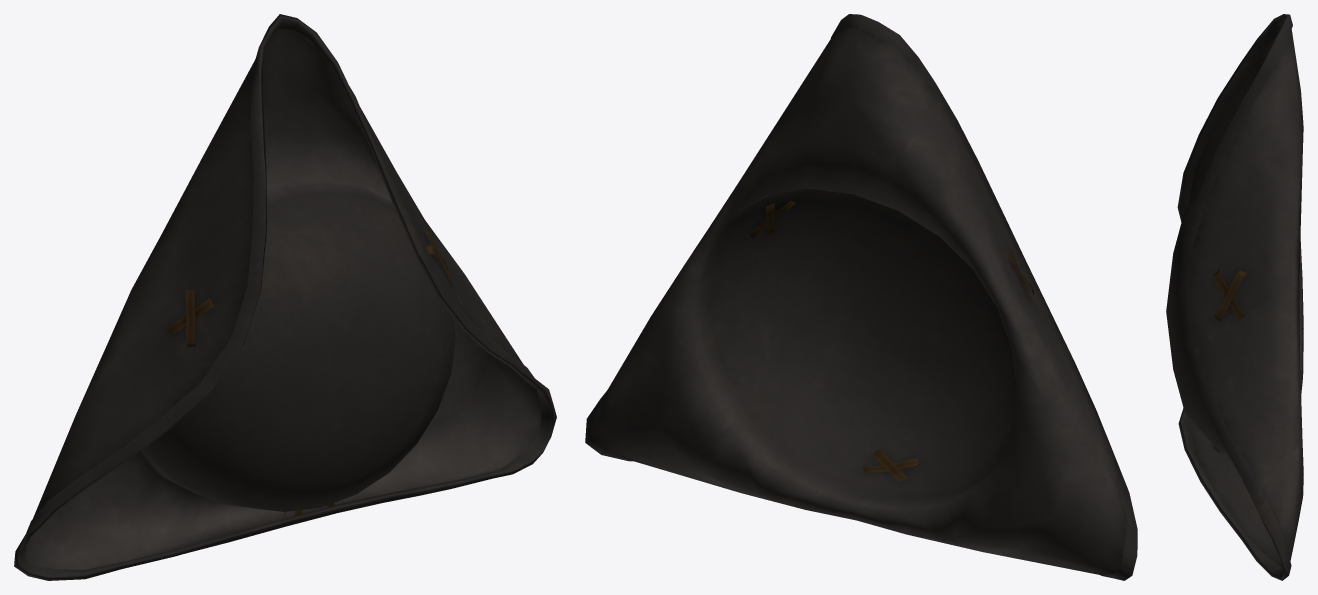
File: pirate_hat.glb
3 renders of one model, left to right at view 1: azimuth 30°, elevation 25°; view 2: azimuth 150°, elevation 25°; view 3: azimuth 270°, elevation 25°, orthographic. The views are drawn at different scales.
Parts seen in each view (by area): view 1: Edge_low_TricornhatMat_0; view 2: Edge_low_TricornhatMat_0; view 3: Edge_low_TricornhatMat_0.
Boxes of the visible parts, box(x1,y1,x2,y2) form: Edge_low_TricornhatMat_0: box(14, 14, 556, 580); Edge_low_TricornhatMat_0: box(585, 14, 1137, 580); Edge_low_TricornhatMat_0: box(1166, 14, 1303, 580).
Size of the model in its own units: 0.4515 by 0.4 by 0.1098.
Materials: 1 (1 with a texture image).
